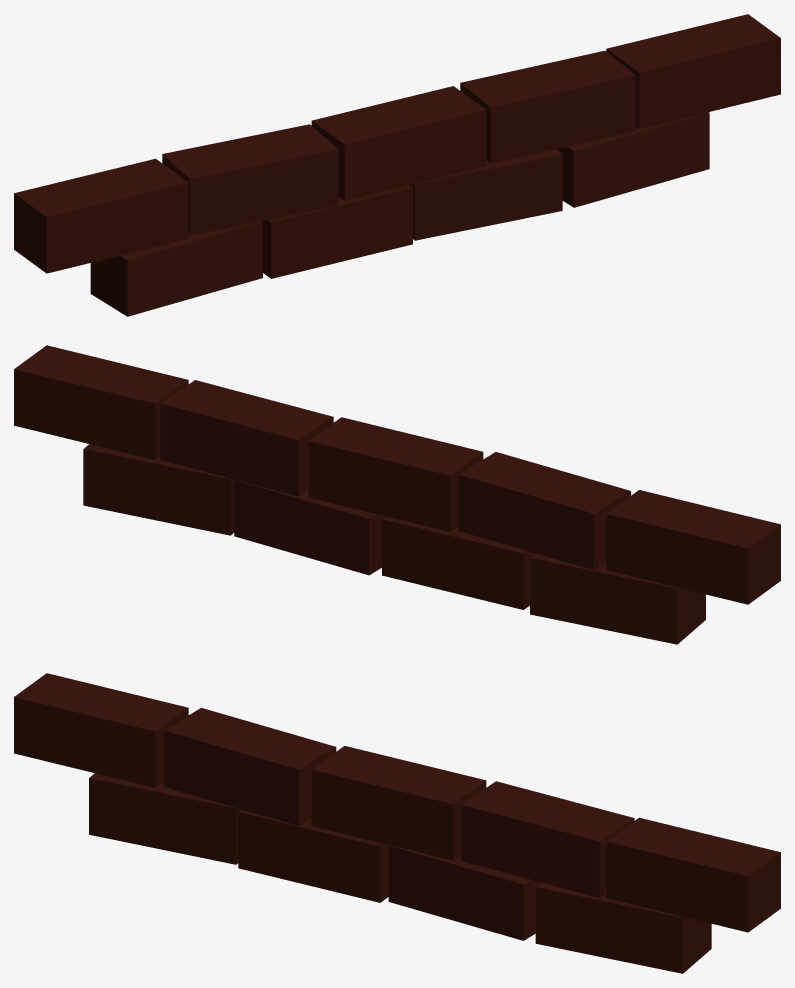
File: BrickWall_1.obj
The picture shows the model from 3 angles, top to bottom: view 1: azimuth 30°, elevation 25°; view 2: azimuth 150°, elevation 25°; view 3: azimuth 330°, elevation 25°; orthographic projection.
Visible parts, largest first — view 1: BrickWall_1_Cube.045; view 2: BrickWall_1_Cube.045; view 3: BrickWall_1_Cube.045.
Boxes of the visible parts, x1,y1,x2,y2 form: BrickWall_1_Cube.045: (14,14,780,316); BrickWall_1_Cube.045: (14,345,780,644); BrickWall_1_Cube.045: (14,673,780,973).
Size of the model in its own units: 2.24 by 0.3392 by 0.206.
